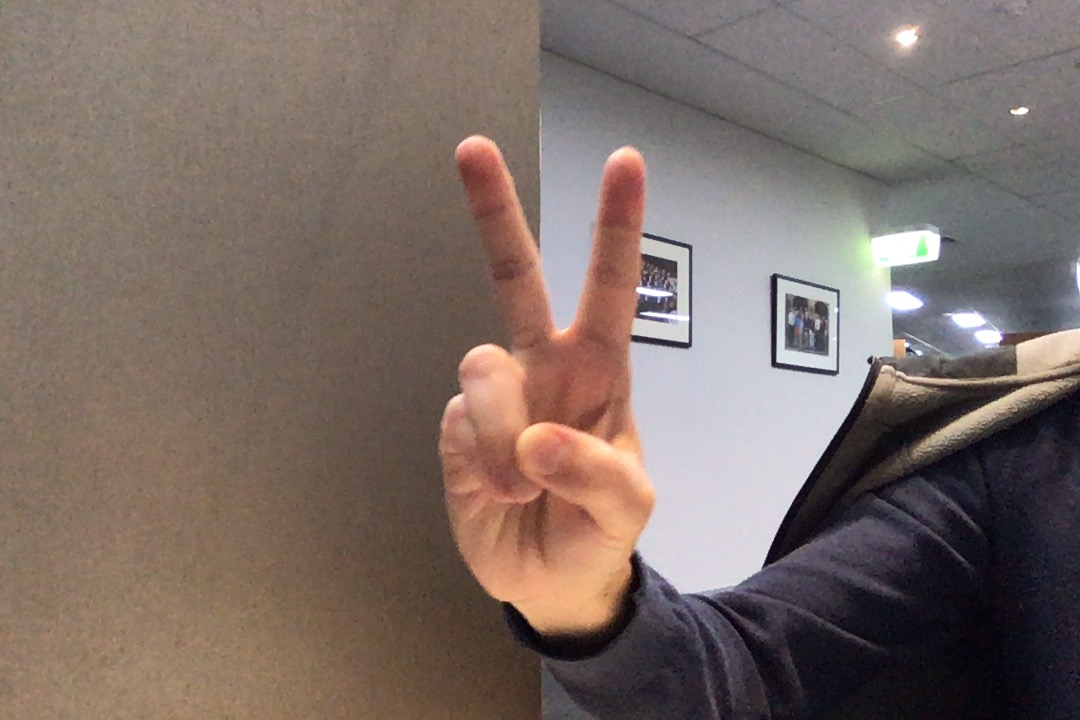peacesign: (401, 116, 683, 621)
